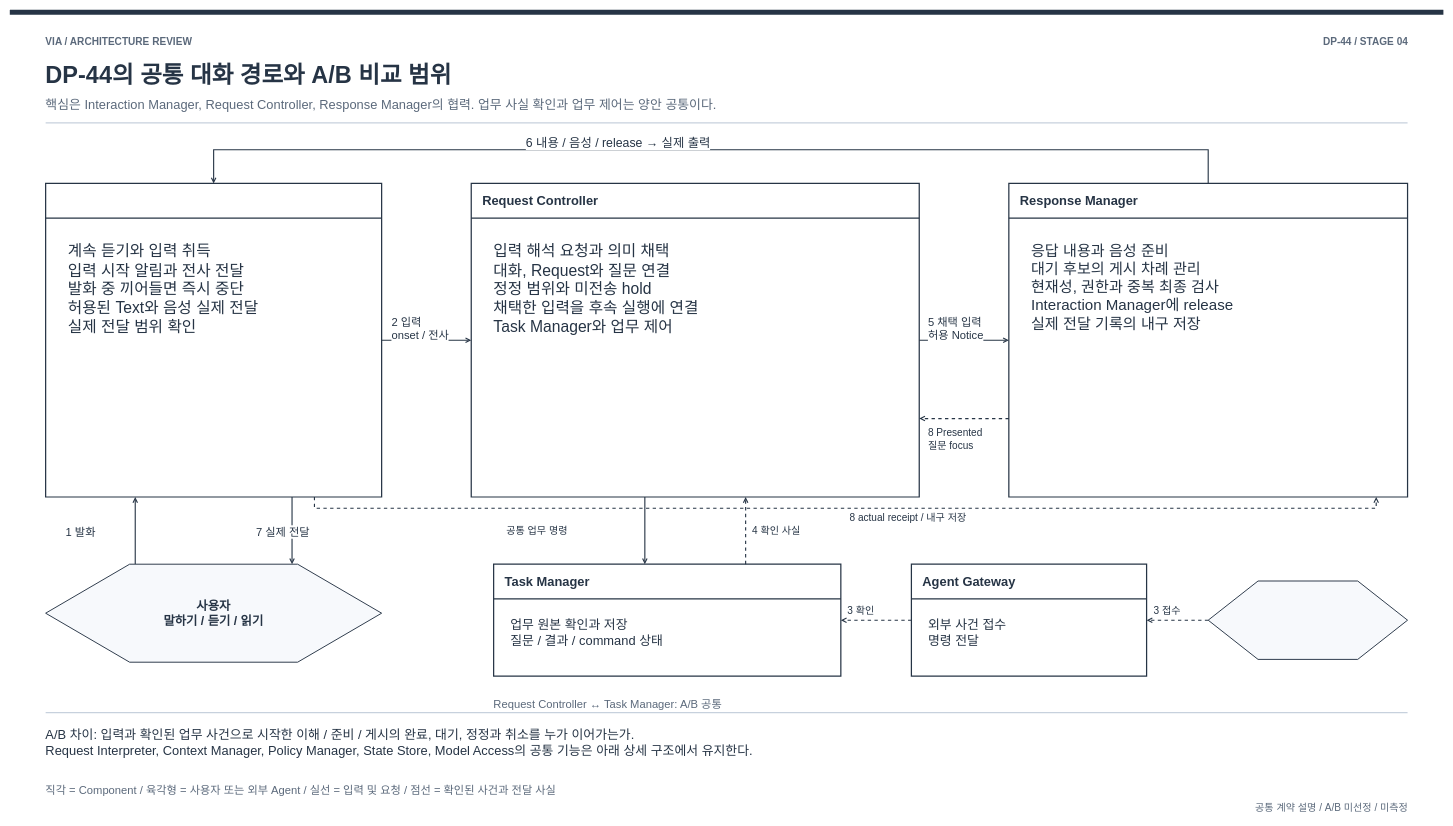
This 1453x826 diagram has some shape labels left out. The box of each missing label's shape, as (x1, y1, x2, y2) in pixels:
Downstream Agent 비동기 질문 / 결과: (1207, 580, 1408, 660)
Interaction Manager: (45, 183, 382, 497)
